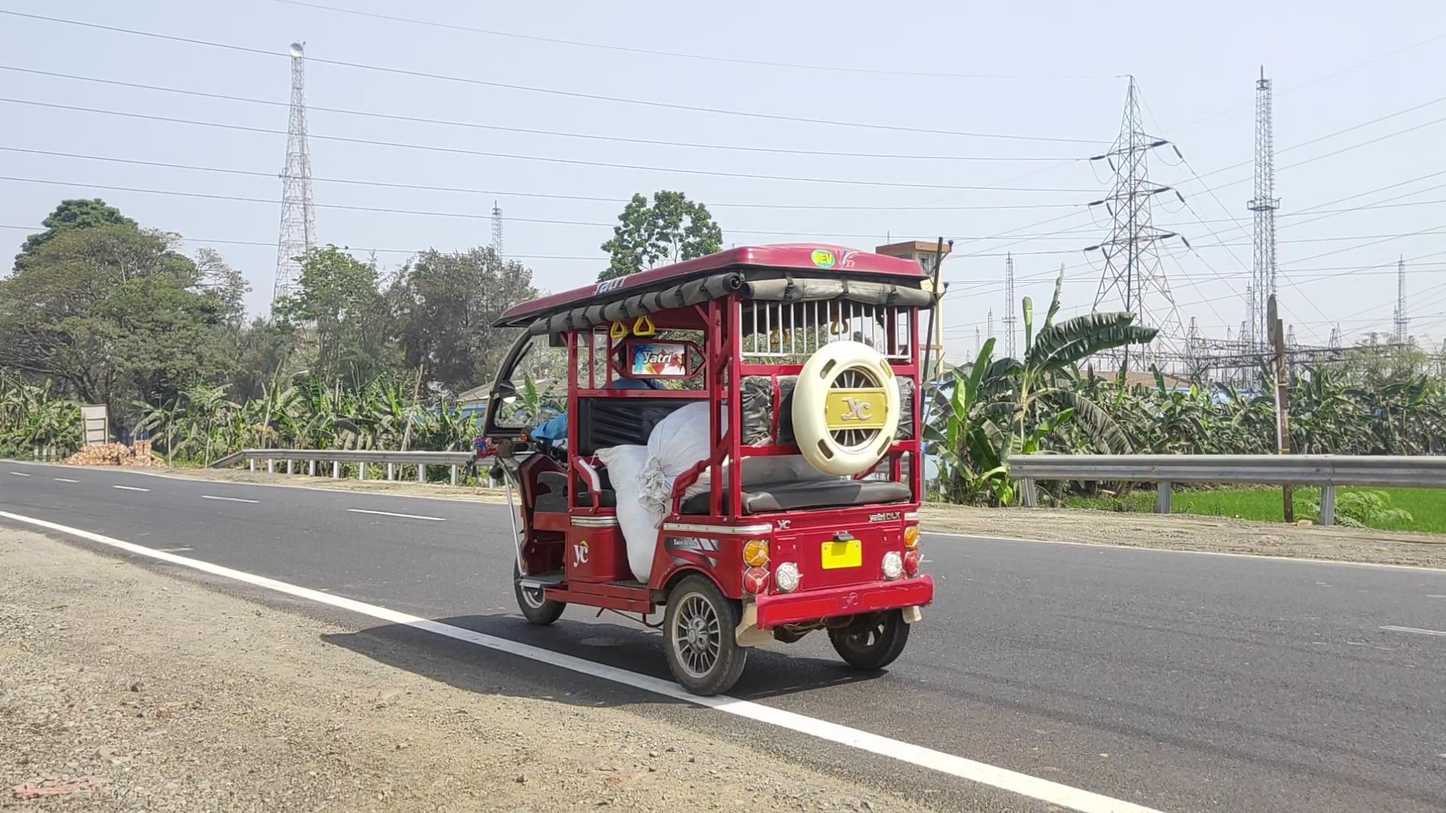Auto: (480, 242, 936, 698)
